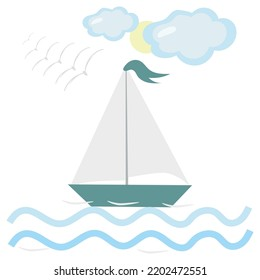boat: (66, 58, 194, 209)
cloud: (142, 7, 237, 67), (78, 5, 140, 43)
